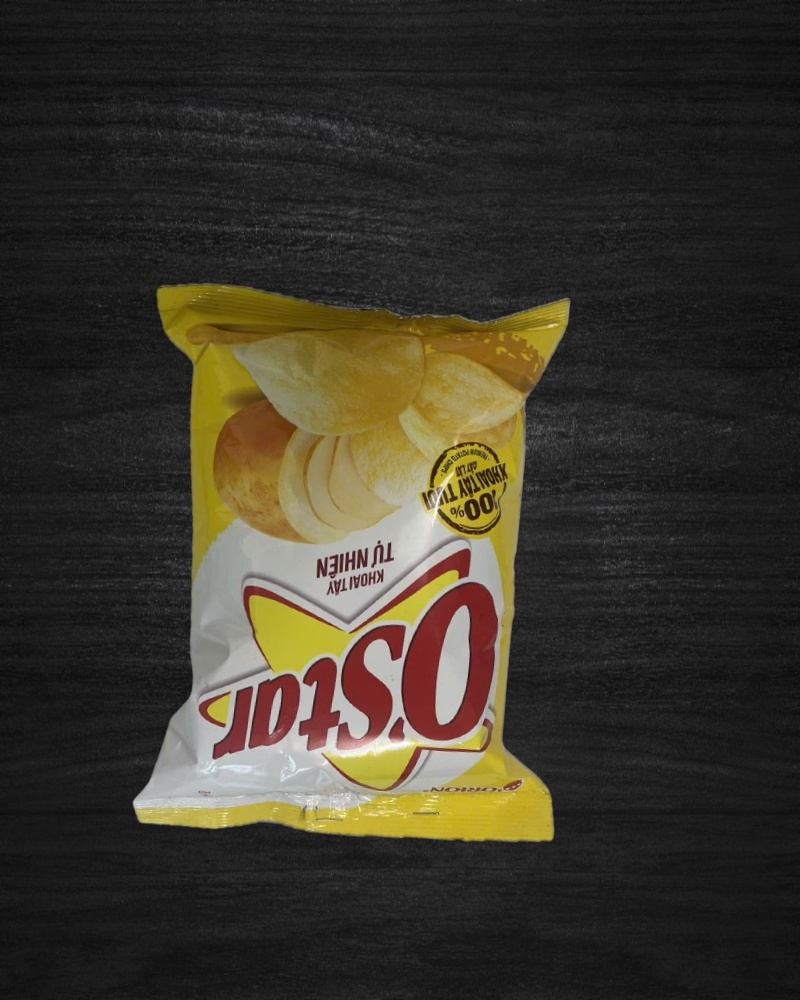Snack cua: (116, 269, 599, 853)
